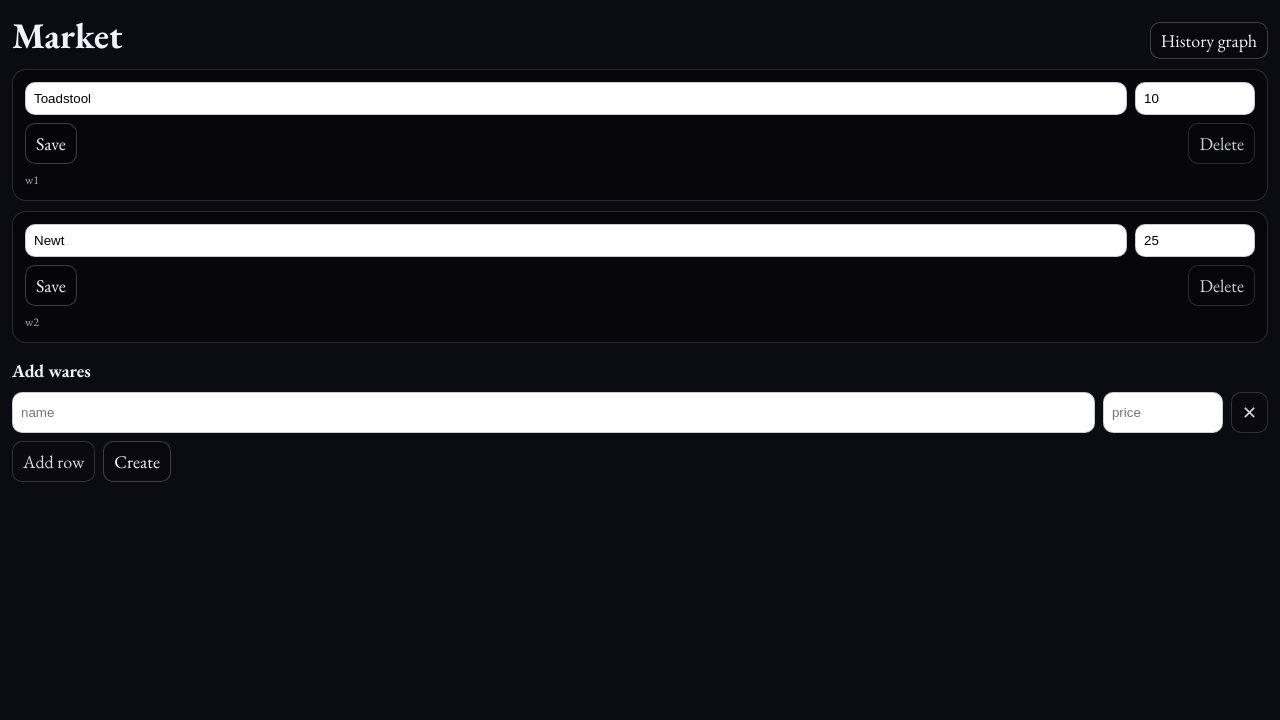
Test: OfficeMarket › a new ware with a name but no price is not created
The width and height of the screenshot is (1280, 720).
Expected: the 1st field showing "Toadstool" is shown, [25, 82, 1127, 115]
Type "Bat wing" into the field with placeholder "name" at [553, 412], box [12, 392, 1095, 433]
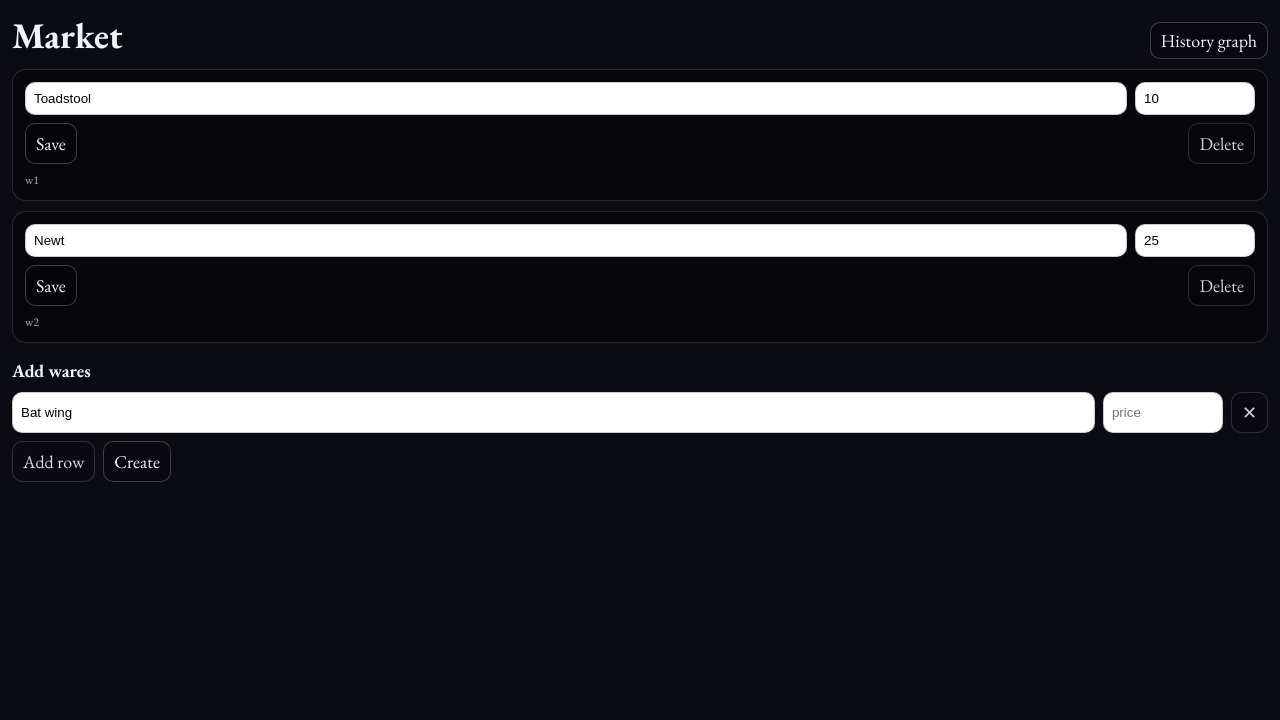
Click the button "Create" at [137, 462], box [103, 441, 171, 482]
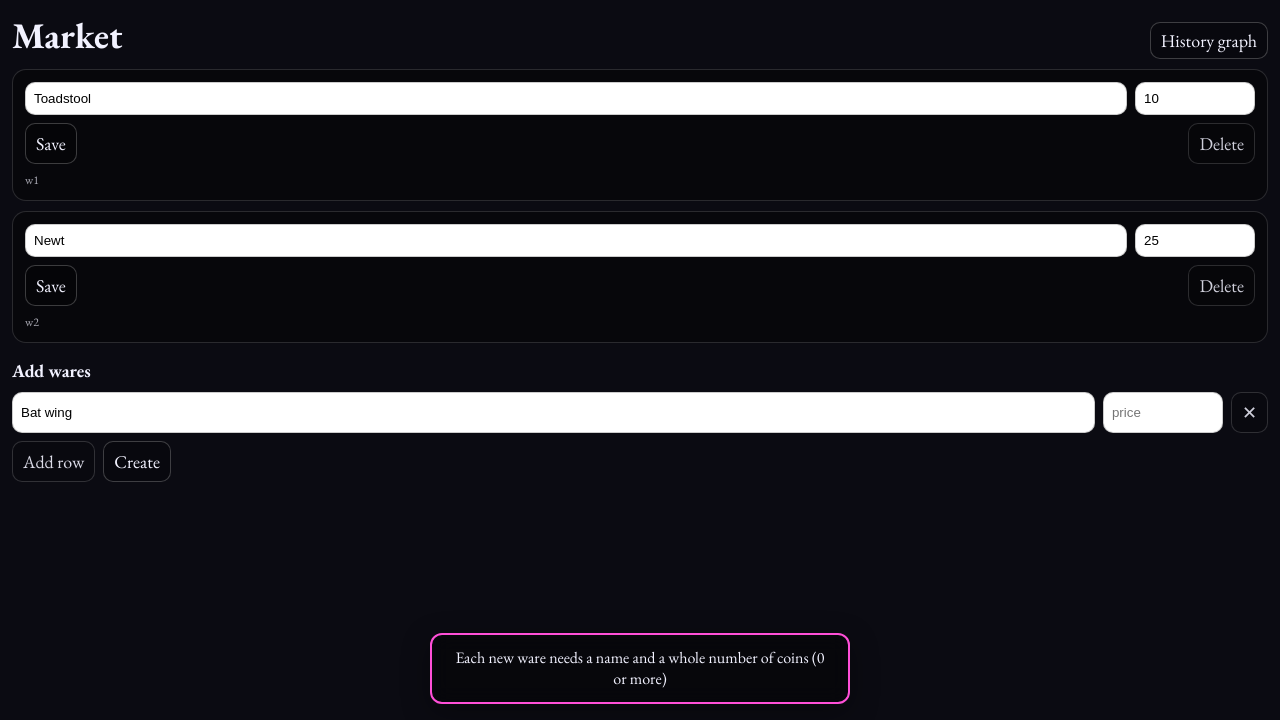
Expected: the text "Each new ware needs a name and a whole number of coins (0 or more)" is shown, [430, 633, 850, 704]
